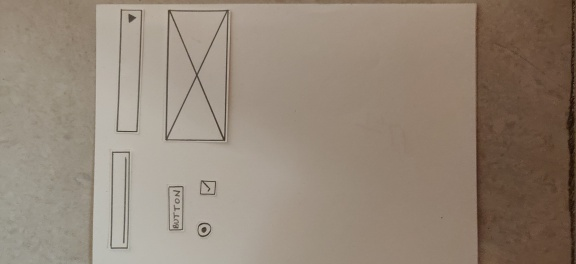button: (164, 183, 188, 234)
checkbox: (195, 178, 221, 199)
dropdown: (114, 7, 146, 136)
img: (162, 7, 232, 146)
radio: (194, 220, 215, 240)
text: (106, 147, 133, 253)
